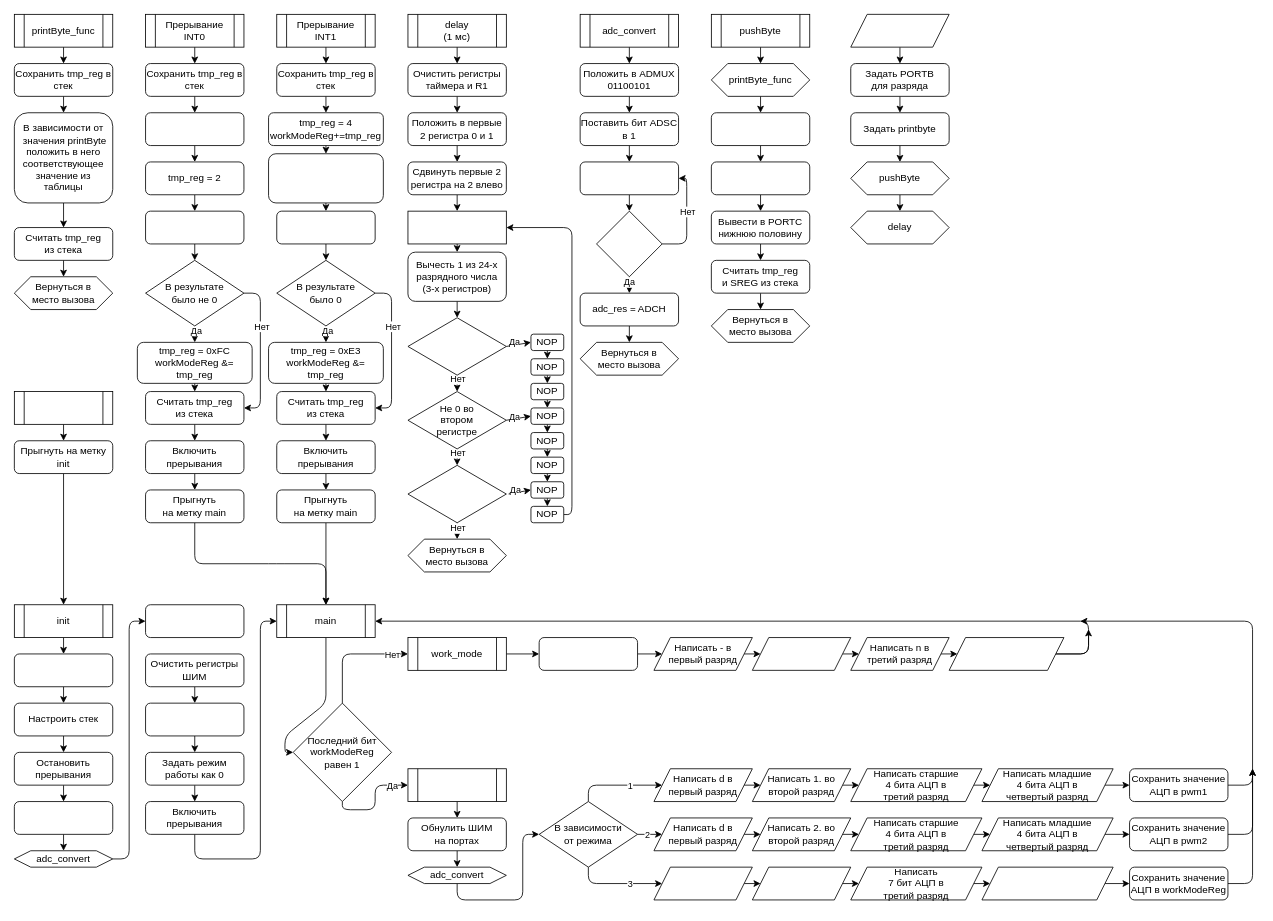
Image size: 1273x921. Some labels were removed from this diagram. Here are the shapes that lost their labels. From the top down, the centre of each, then its label:
[899,30]: Запись в разряд
[194,129]: Инкремент workModeReg
[760,129]: Сохранить tmp_reg и SREG в стек
[325,178]: tmp_reg = 12 tmp_reg &= workModeReg
[629,178]: Считать бит ADSC
[760,178]: Вывести в PORTD верхнюю половину
[194,227]: tmp_reg &= workModeReg
[325,227]: tmp_reg -= 12
[456,227]: Начало цикла
[629,243]: Если 0
[456,346]: Не 0 в первом регистре
[63,407]: Прерывание Reset
[456,494]: Не 0 в третьем регистре
[194,621]: Настроить ШИМ
[63,670]: Открыть порты на запись/чтение
[588,653]: Вывод ШИМ на порты
[801,653]: Написать о во второй разряд
[1006,653]: Написать - в четвертый разряд
[194,719]: Настроить прерывания
[456,785]: settings_mode
[63,817]: Настроить АЦП
[702,883]: Написать C в первый разряд
[801,883]: Написать H. во второй разряд
[1047,883]: Написать 6 бит АЦП в четвертый разряд
